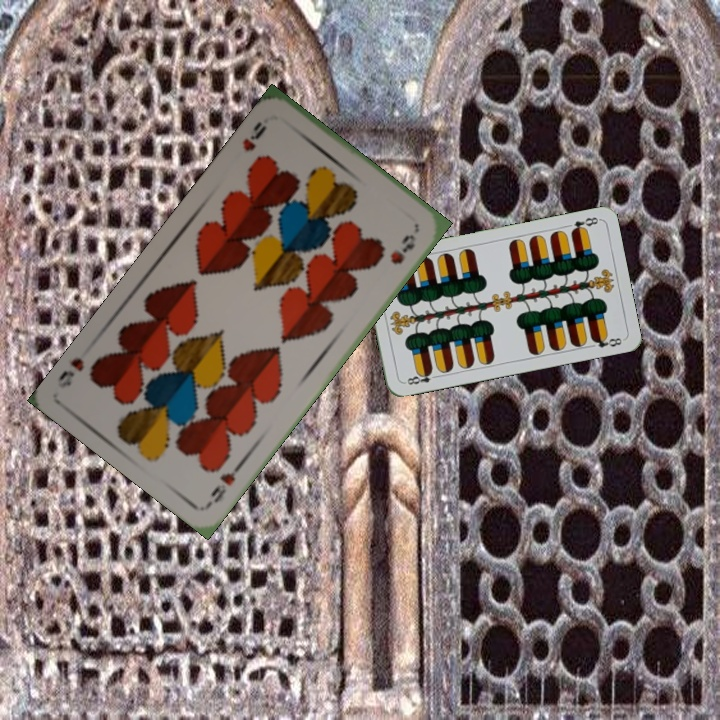E8: (400, 367, 441, 387), (567, 213, 602, 235)
H9: (203, 458, 246, 508), (238, 117, 270, 154)
